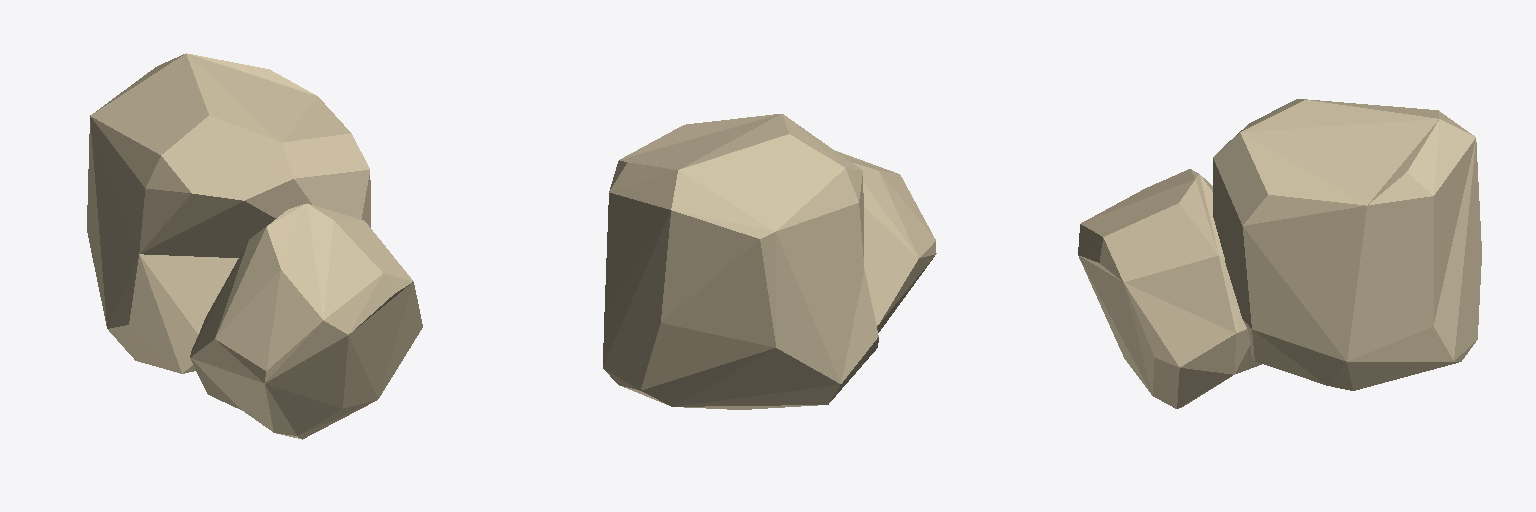
3 views of the same model, side by side, from view 1: azimuth 30°, elevation 25°; view 2: azimuth 150°, elevation 25°; view 3: azimuth 270°, elevation 25° (orthographic).
Visible parts, largest first — view 1: 背中; view 2: 背中; view 3: 背中.
Part boxes in pixels (left/top/right/bottom): 背中: left=87, top=53, right=422, bottom=439; 背中: left=603, top=114, right=936, bottom=409; 背中: left=1078, top=99, right=1481, bottom=408.
Size of the model in its own units: 0.9618 by 1.1 by 1.42.
1 materials, 1 textured.